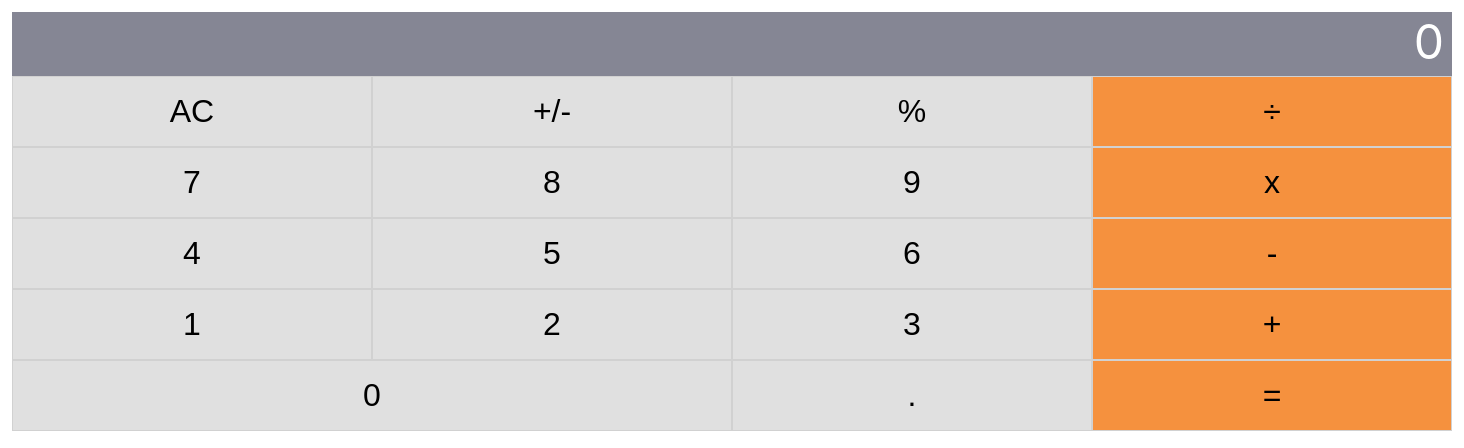
test the calculator component UI › When you add 7 and 8, expect result to be 15
Click the button with test id "no-seven" at (192, 182), box top-left (12, 147), bottom-right (372, 218)
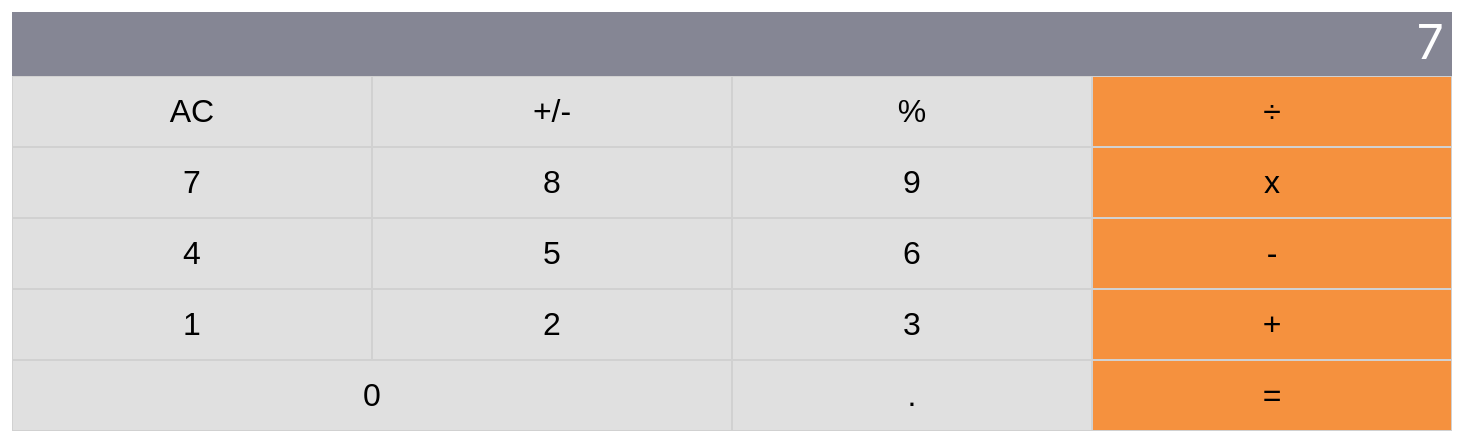
Click the button with test id "plus" at (1272, 324), box top-left (1092, 289), bottom-right (1452, 360)
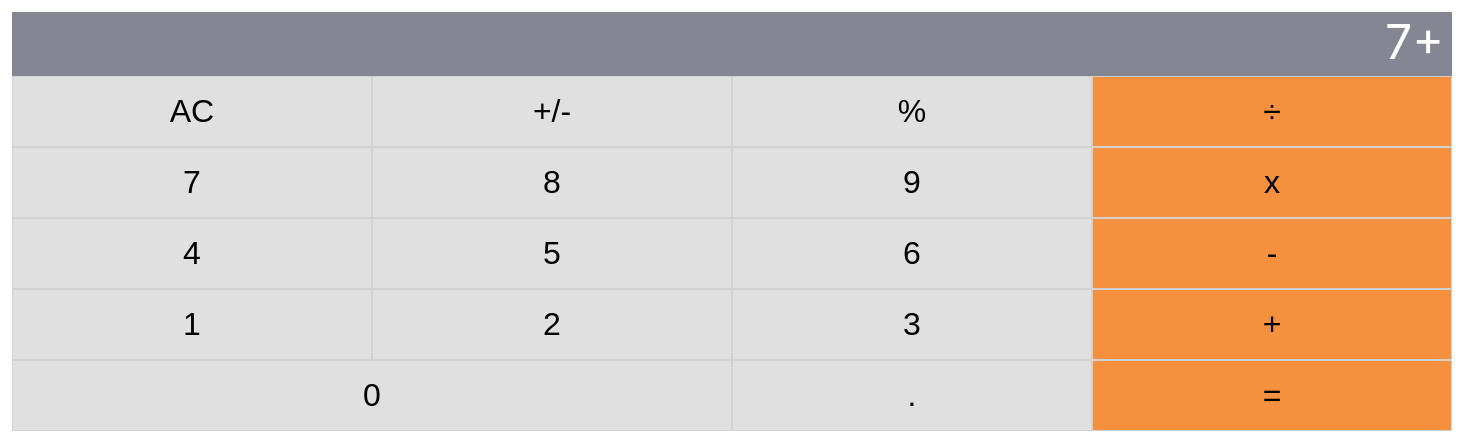
Click the button with test id "no-eight" at (552, 182), box top-left (372, 147), bottom-right (732, 218)
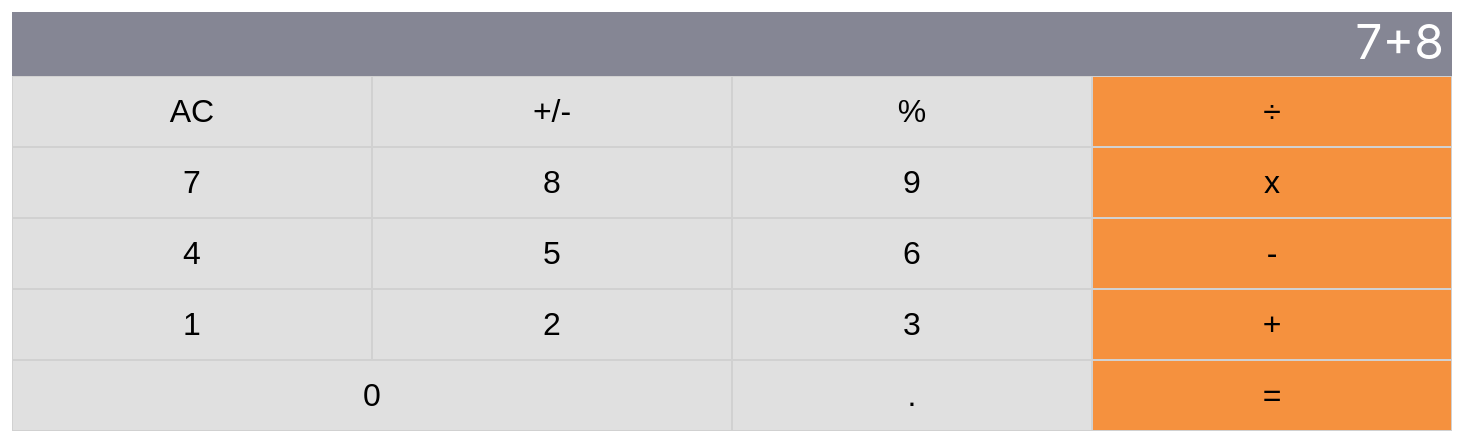
Click the button with test id "equal" at (1272, 396), box top-left (1092, 360), bottom-right (1452, 431)
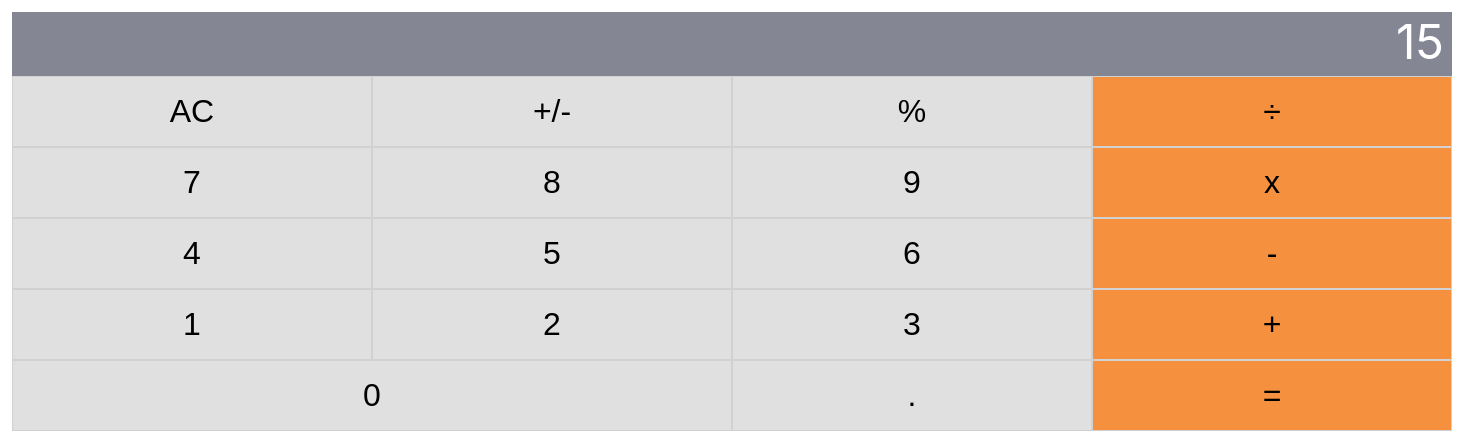
Expected: the text with test id "result" reads "15", top-left (1396, 12), bottom-right (1444, 71)
